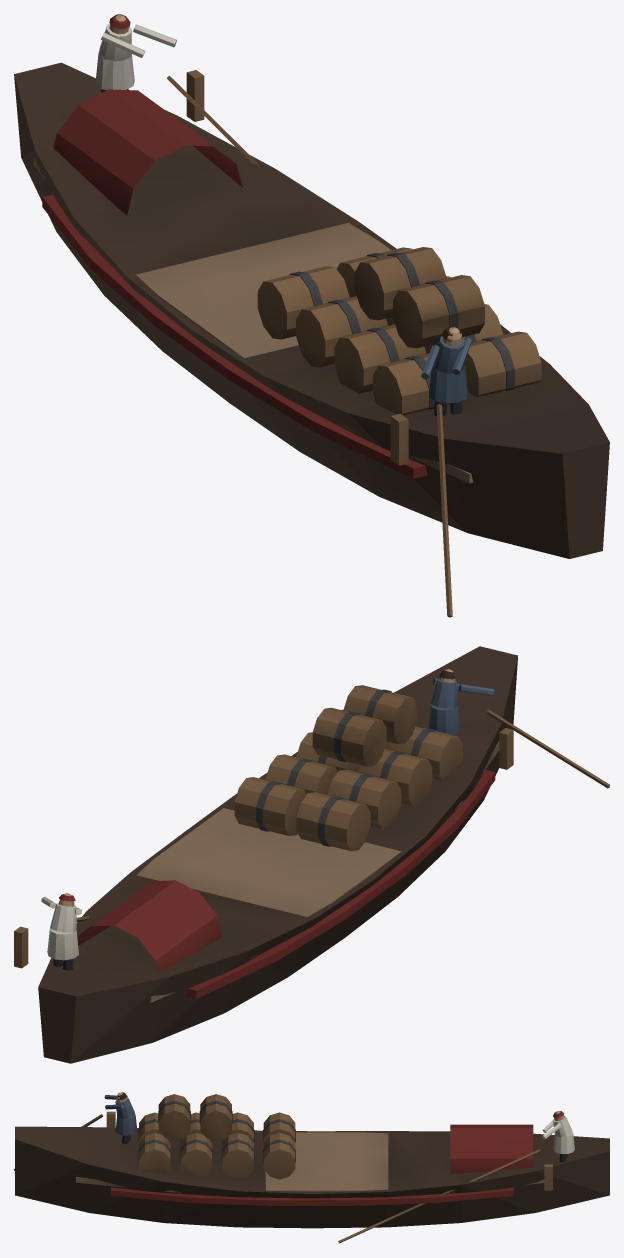
Rendered from boat.glb.
3 renders of one model, top to bottom at view 1: azimuth 30°, elevation 25°; view 2: azimuth 150°, elevation 25°; view 3: azimuth 270°, elevation 25°, orthographic. The views are drawn at different scales.
Visible parts, largest first — view 1: base; view 2: base; view 3: base.
Boxes of the visible parts, left/top/right/bottom form: base: left=14, top=14, right=609, bottom=617; base: left=14, top=646, right=609, bottom=1063; base: left=14, top=1092, right=609, bottom=1243.
Bounding box in the file's own units: 3.97 × 2.67 × 13.62.
